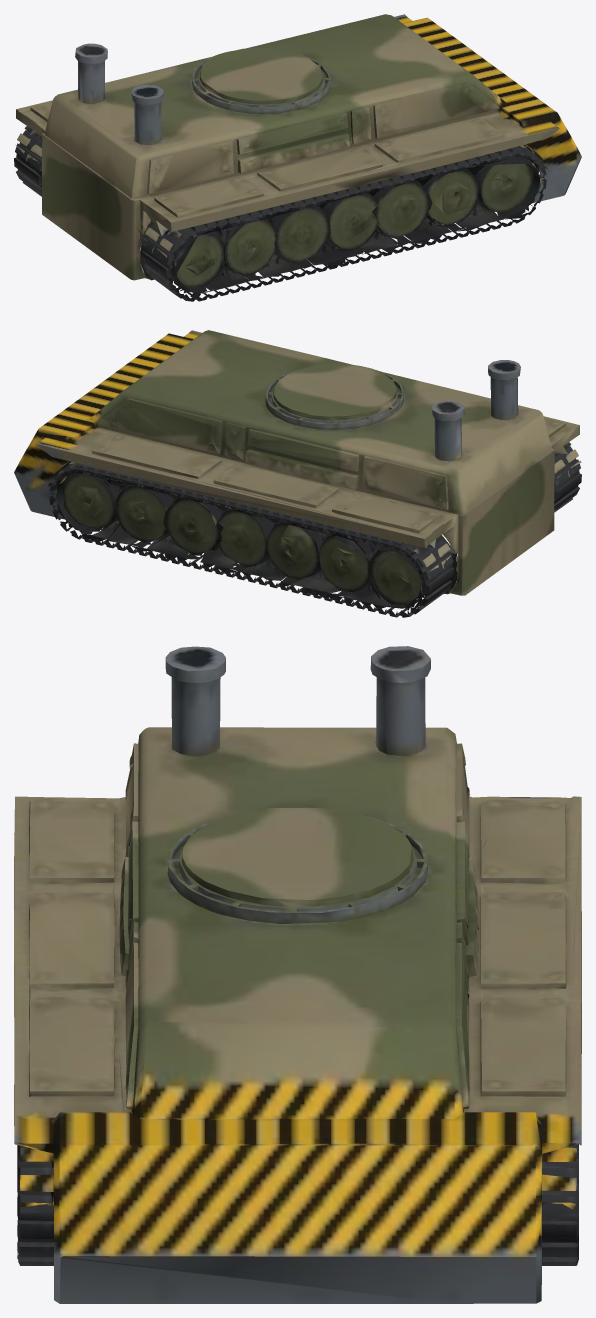
File: chassis-titan-0-light.glb
3 renders of one model, top to bottom at view 1: azimuth 30°, elevation 25°; view 2: azimuth 150°, elevation 25°; view 3: azimuth 270°, elevation 25°, orthographic. The views are drawn at different scales.
Visible parts, largest first — view 1: chassis-titan-0-light; view 2: chassis-titan-0-light; view 3: chassis-titan-0-light.
Part boxes in pixels (bbox=[...]): chassis-titan-0-light: bbox=[14, 14, 581, 301]; chassis-titan-0-light: bbox=[14, 330, 581, 617]; chassis-titan-0-light: bbox=[14, 646, 581, 1303].
Bounding box in the file's own units: 2.94 × 1.15 × 1.84.
Materials: 1 (1 with a texture image).
